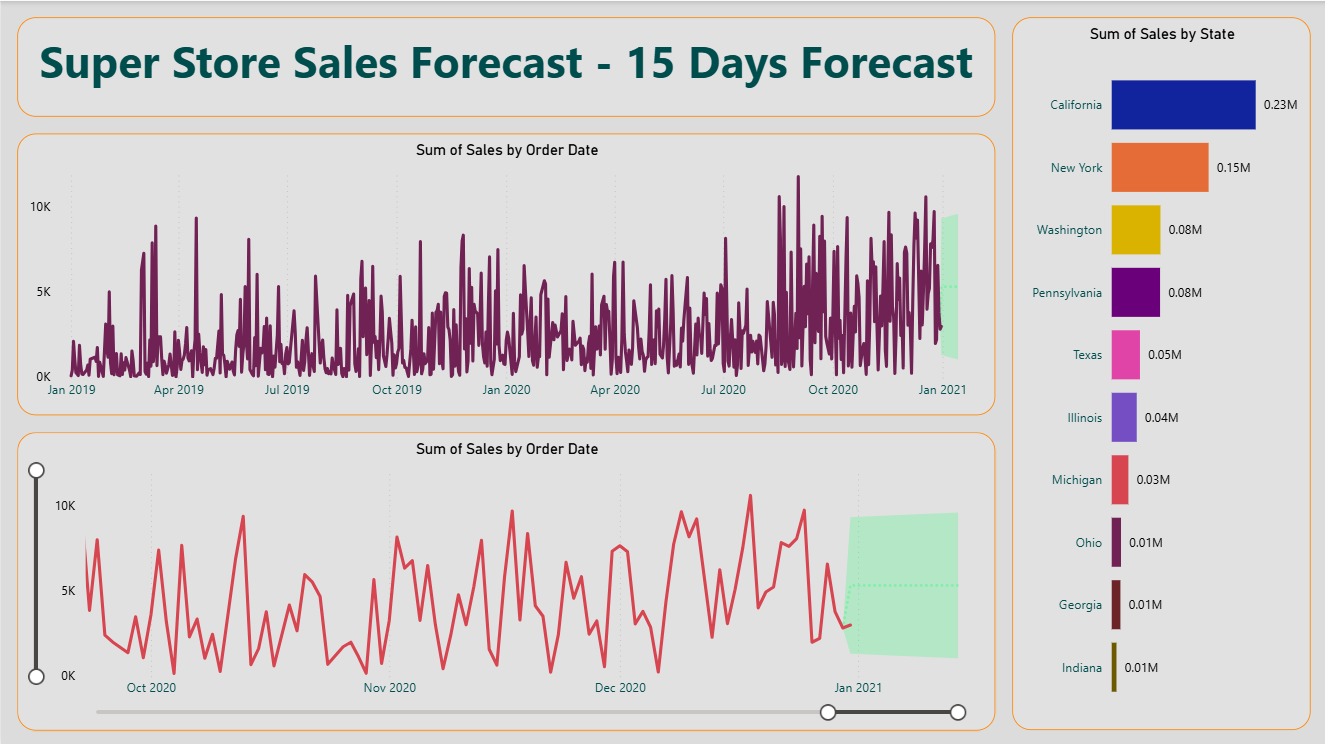

This screenshot's page, from the dashboard's own definition file:
{"tool":"powerbi","page":{"name":"Page 2","canvas":[1280,720],"ordinal":1},"visuals":[{"type":"lineChart","fields":{"Y":["Sum(SuperStore_Sales_Dataset.Sales)"],"Category":["SuperStore_Sales_Dataset.Order Date"]},"box":[16,128,944,272],"z":0},{"type":"lineChart","fields":{"Y":["Sum(SuperStore_Sales_Dataset.Sales)"],"Category":["SuperStore_Sales_Dataset.Order Date"]},"box":[16,416,944,288],"z":1000},{"type":"barChart","fields":{"Category":["SuperStore_Sales_Dataset.State"],"Y":["Sum(SuperStore_Sales_Dataset.Sales)"]},"box":[976,16,288,688],"z":2000},{"type":"textbox","box":[16,16,944,96],"z":3000}]}

Visuals, with their boxes in screenshot pixels (x1, y1, x2, y2), scaled from the page's 1280x720 canvas onto the 1325x744 screenshot:
lineChart - Sum(SuperStore_Sales_Dataset.Sales) x SuperStore_Sales_Dataset.Order Date: <box>17,132,994,413</box>
lineChart - Sum(SuperStore_Sales_Dataset.Sales) x SuperStore_Sales_Dataset.Order Date: <box>17,430,994,727</box>
barChart - SuperStore_Sales_Dataset.State x Sum(SuperStore_Sales_Dataset.Sales): <box>1010,17,1308,727</box>
textbox: <box>17,17,994,116</box>
